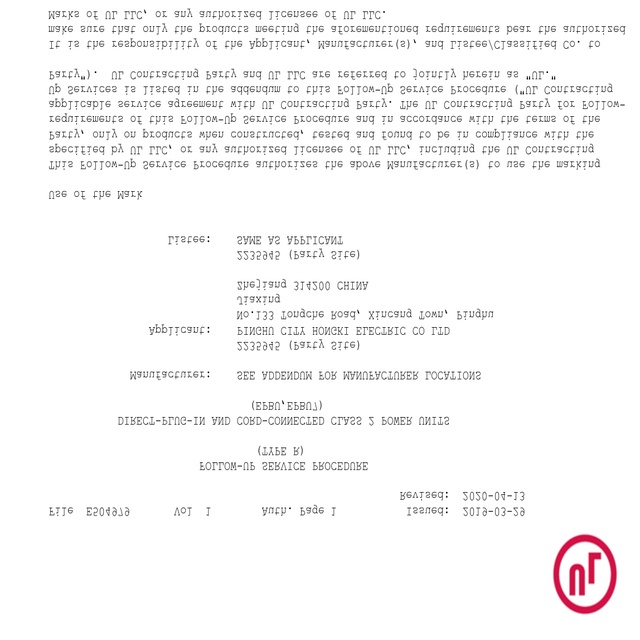ul: (552, 532, 618, 614)
